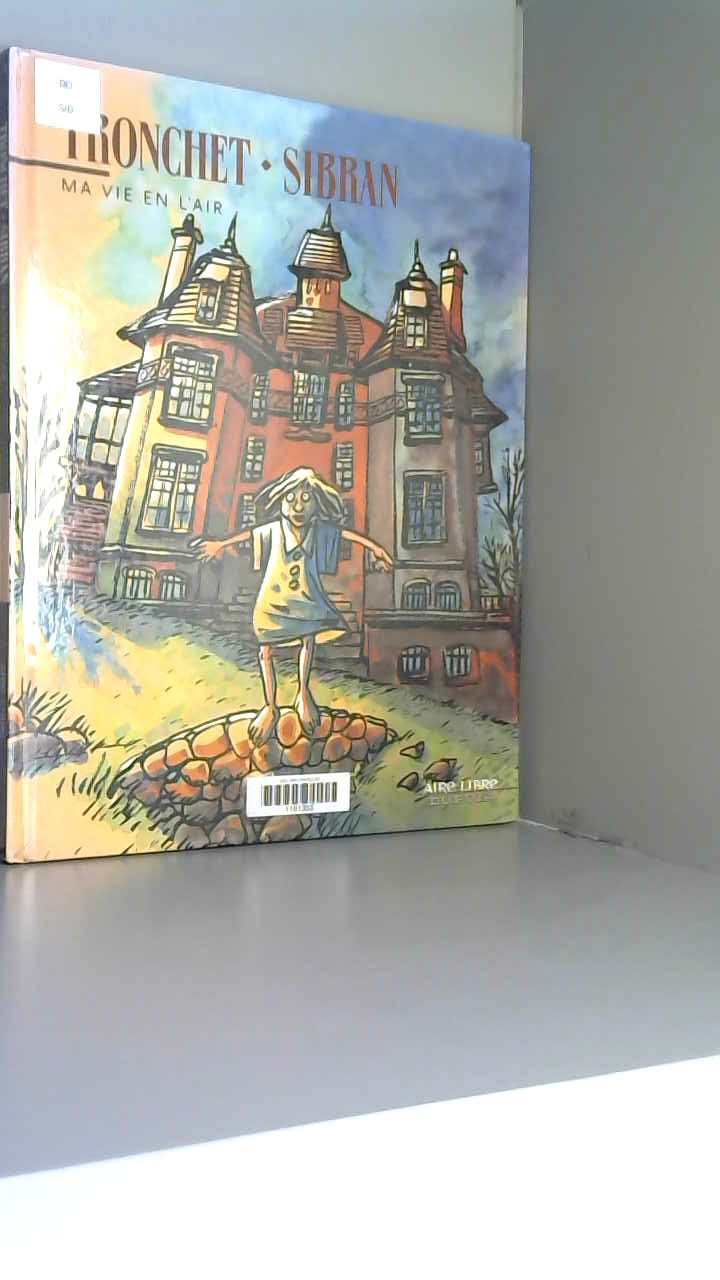book: (0, 34, 559, 890)
